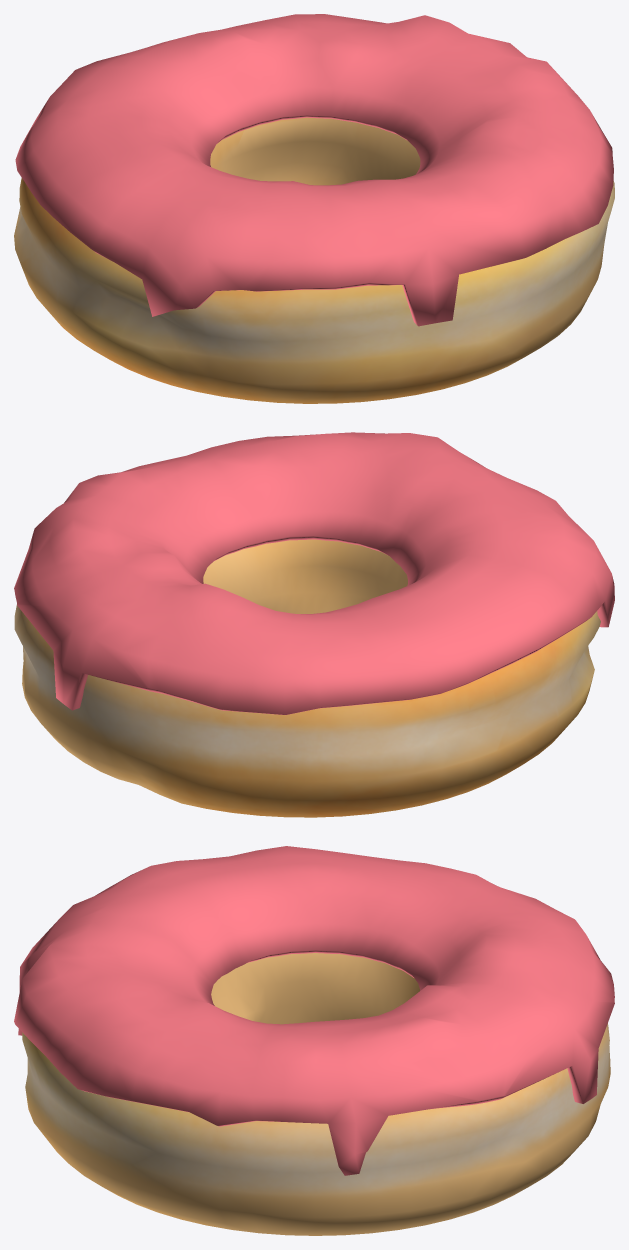
The model's file is donut.glb.
3 views of the same model, one above another, from view 1: azimuth 30°, elevation 25°; view 2: azimuth 150°, elevation 25°; view 3: azimuth 270°, elevation 25° (orthographic). The views are drawn at different scales.
Visible parts, largest first — view 1: Icing, Donut; view 2: Icing, Donut; view 3: Icing, Donut.
Boxes of the visible parts, x1,y1,x2,y2 form: Icing: [15, 14, 613, 326]; Donut: [14, 117, 614, 403]; Icing: [14, 432, 614, 715]; Donut: [14, 539, 600, 817]; Icing: [14, 846, 614, 1175]; Donut: [22, 953, 610, 1235].
Size of what is drawn, in the model's own units: 0.1483 by 0.055 by 0.1472.
2 materials, 1 textured.
